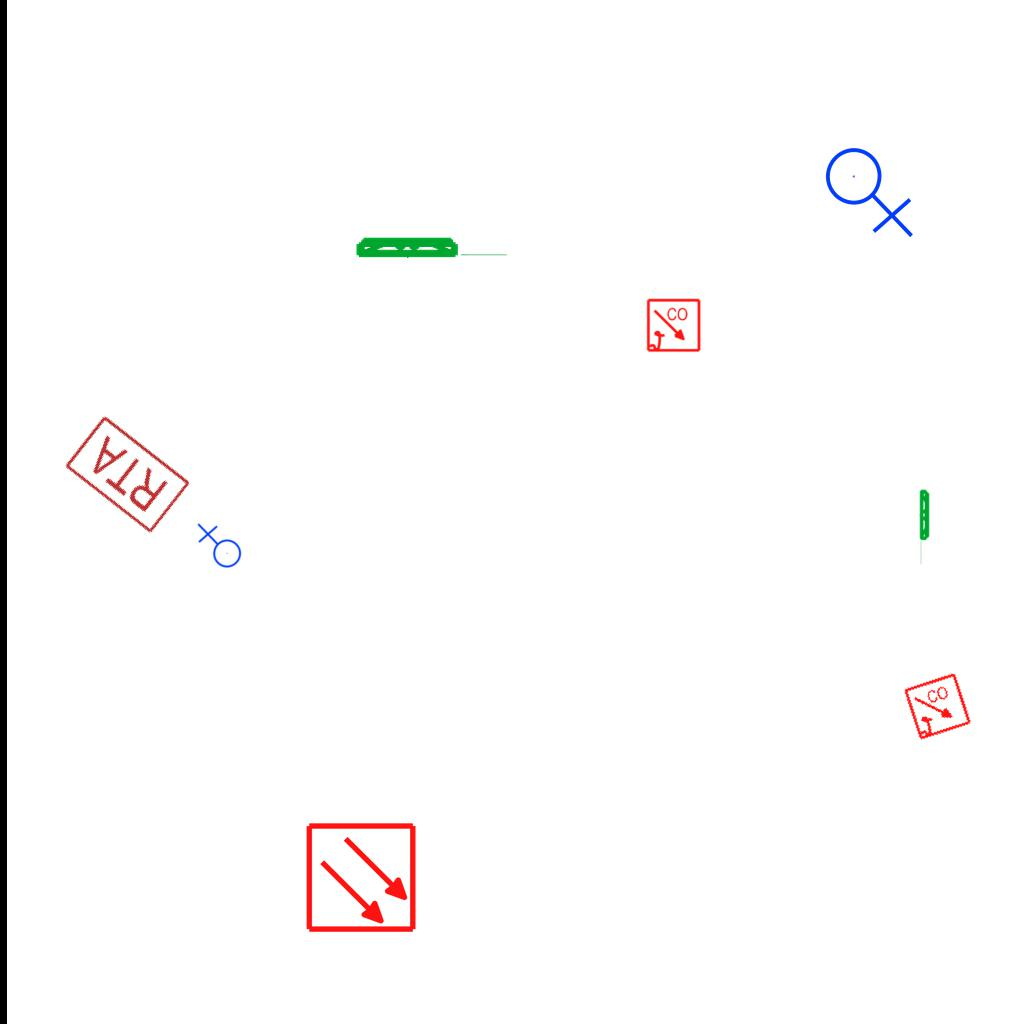Elektroanschluss_allgemein_230V_Geraeteanschlussdose_230V: (824, 139, 918, 238), (195, 523, 242, 572)
RMO_Rauchmelder_optischer: (305, 821, 418, 934)
ROA_Rauchmelder_optisch_mit_Signalgeber_(Sockelsirene): (902, 671, 974, 743), (646, 298, 702, 354)
Ruf-und_Abstelltaster: (62, 412, 195, 538)
Sicherheitsleuchte_Wandeinbau: (353, 234, 512, 259), (919, 488, 931, 567)
